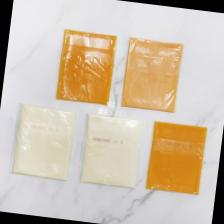cheese: (9, 101, 78, 182), (54, 26, 119, 106), (79, 112, 145, 190), (120, 36, 184, 114), (144, 119, 208, 196)
